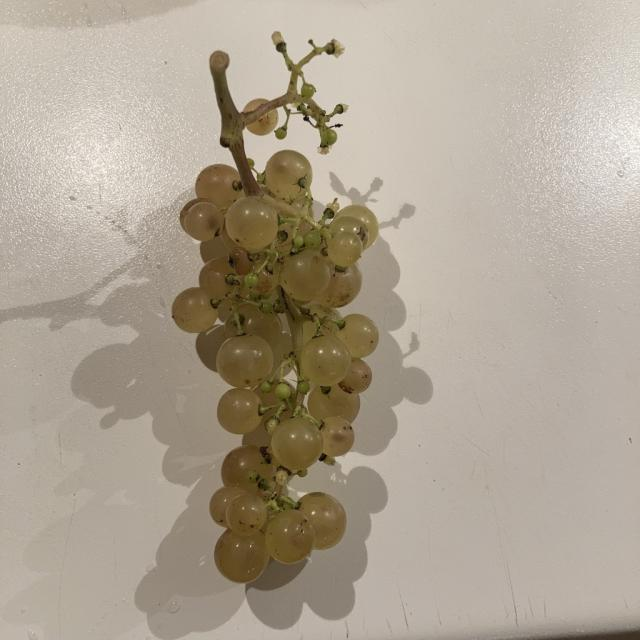Grapes: (160, 32, 388, 598)
